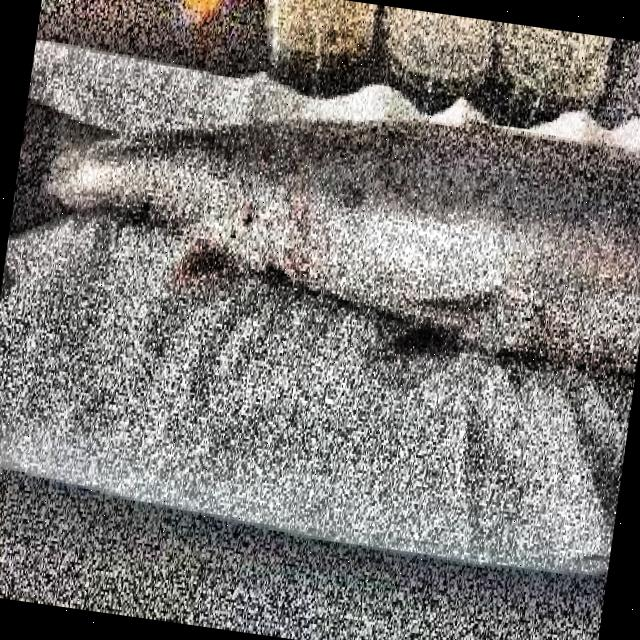mild_red: (47, 119, 640, 372)
